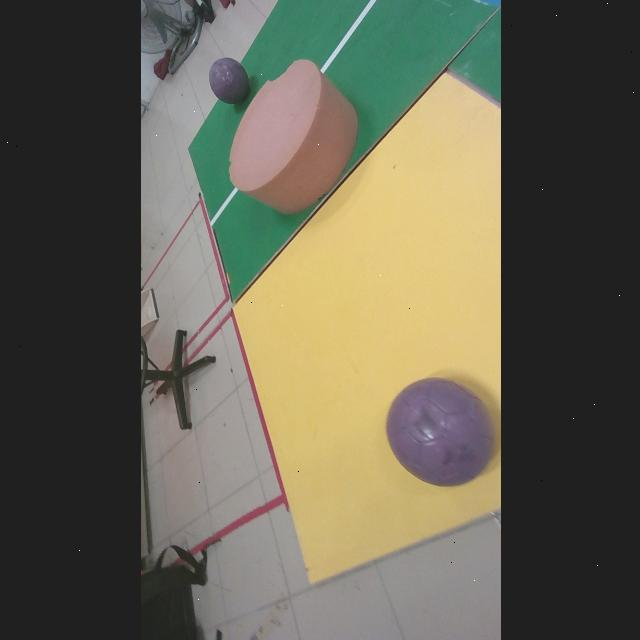P: (386, 378, 492, 486), (208, 58, 248, 104)
